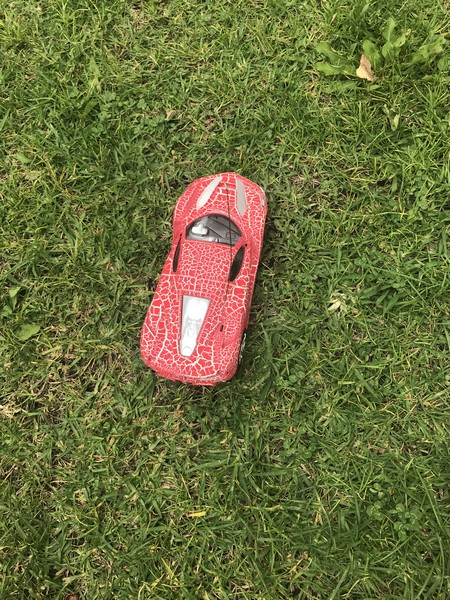RC: (138, 172, 271, 388)
